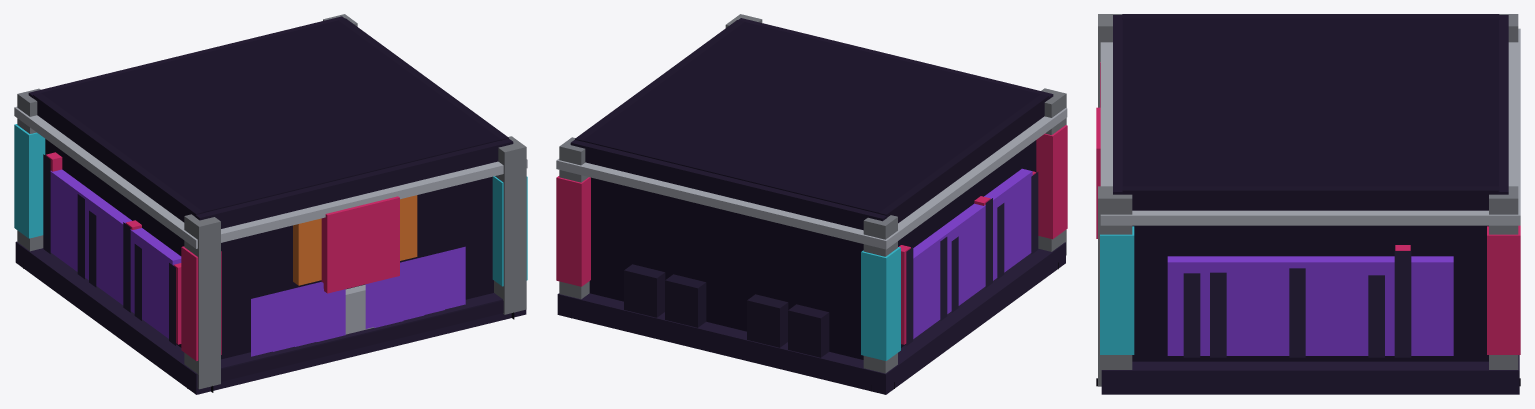
Rendered from NeonHeartSil.fbx.
3 renders of one model, left to right at view 1: azimuth 30°, elevation 25°; view 2: azimuth 150°, elevation 25°; view 3: azimuth 270°, elevation 25°, orthographic. The views are drawn at different scales.
Visible parts, largest first — view 1: NH_S_All; view 2: NH_S_All; view 3: NH_S_All.
Part boxes in pixels (box(x1,y1,x2,y2)): NH_S_All: box(14, 14, 527, 394); NH_S_All: box(556, 14, 1067, 394); NH_S_All: box(1096, 14, 1520, 394).
Bounding box in the file's own units: 40.24 × 20 × 38.64.
